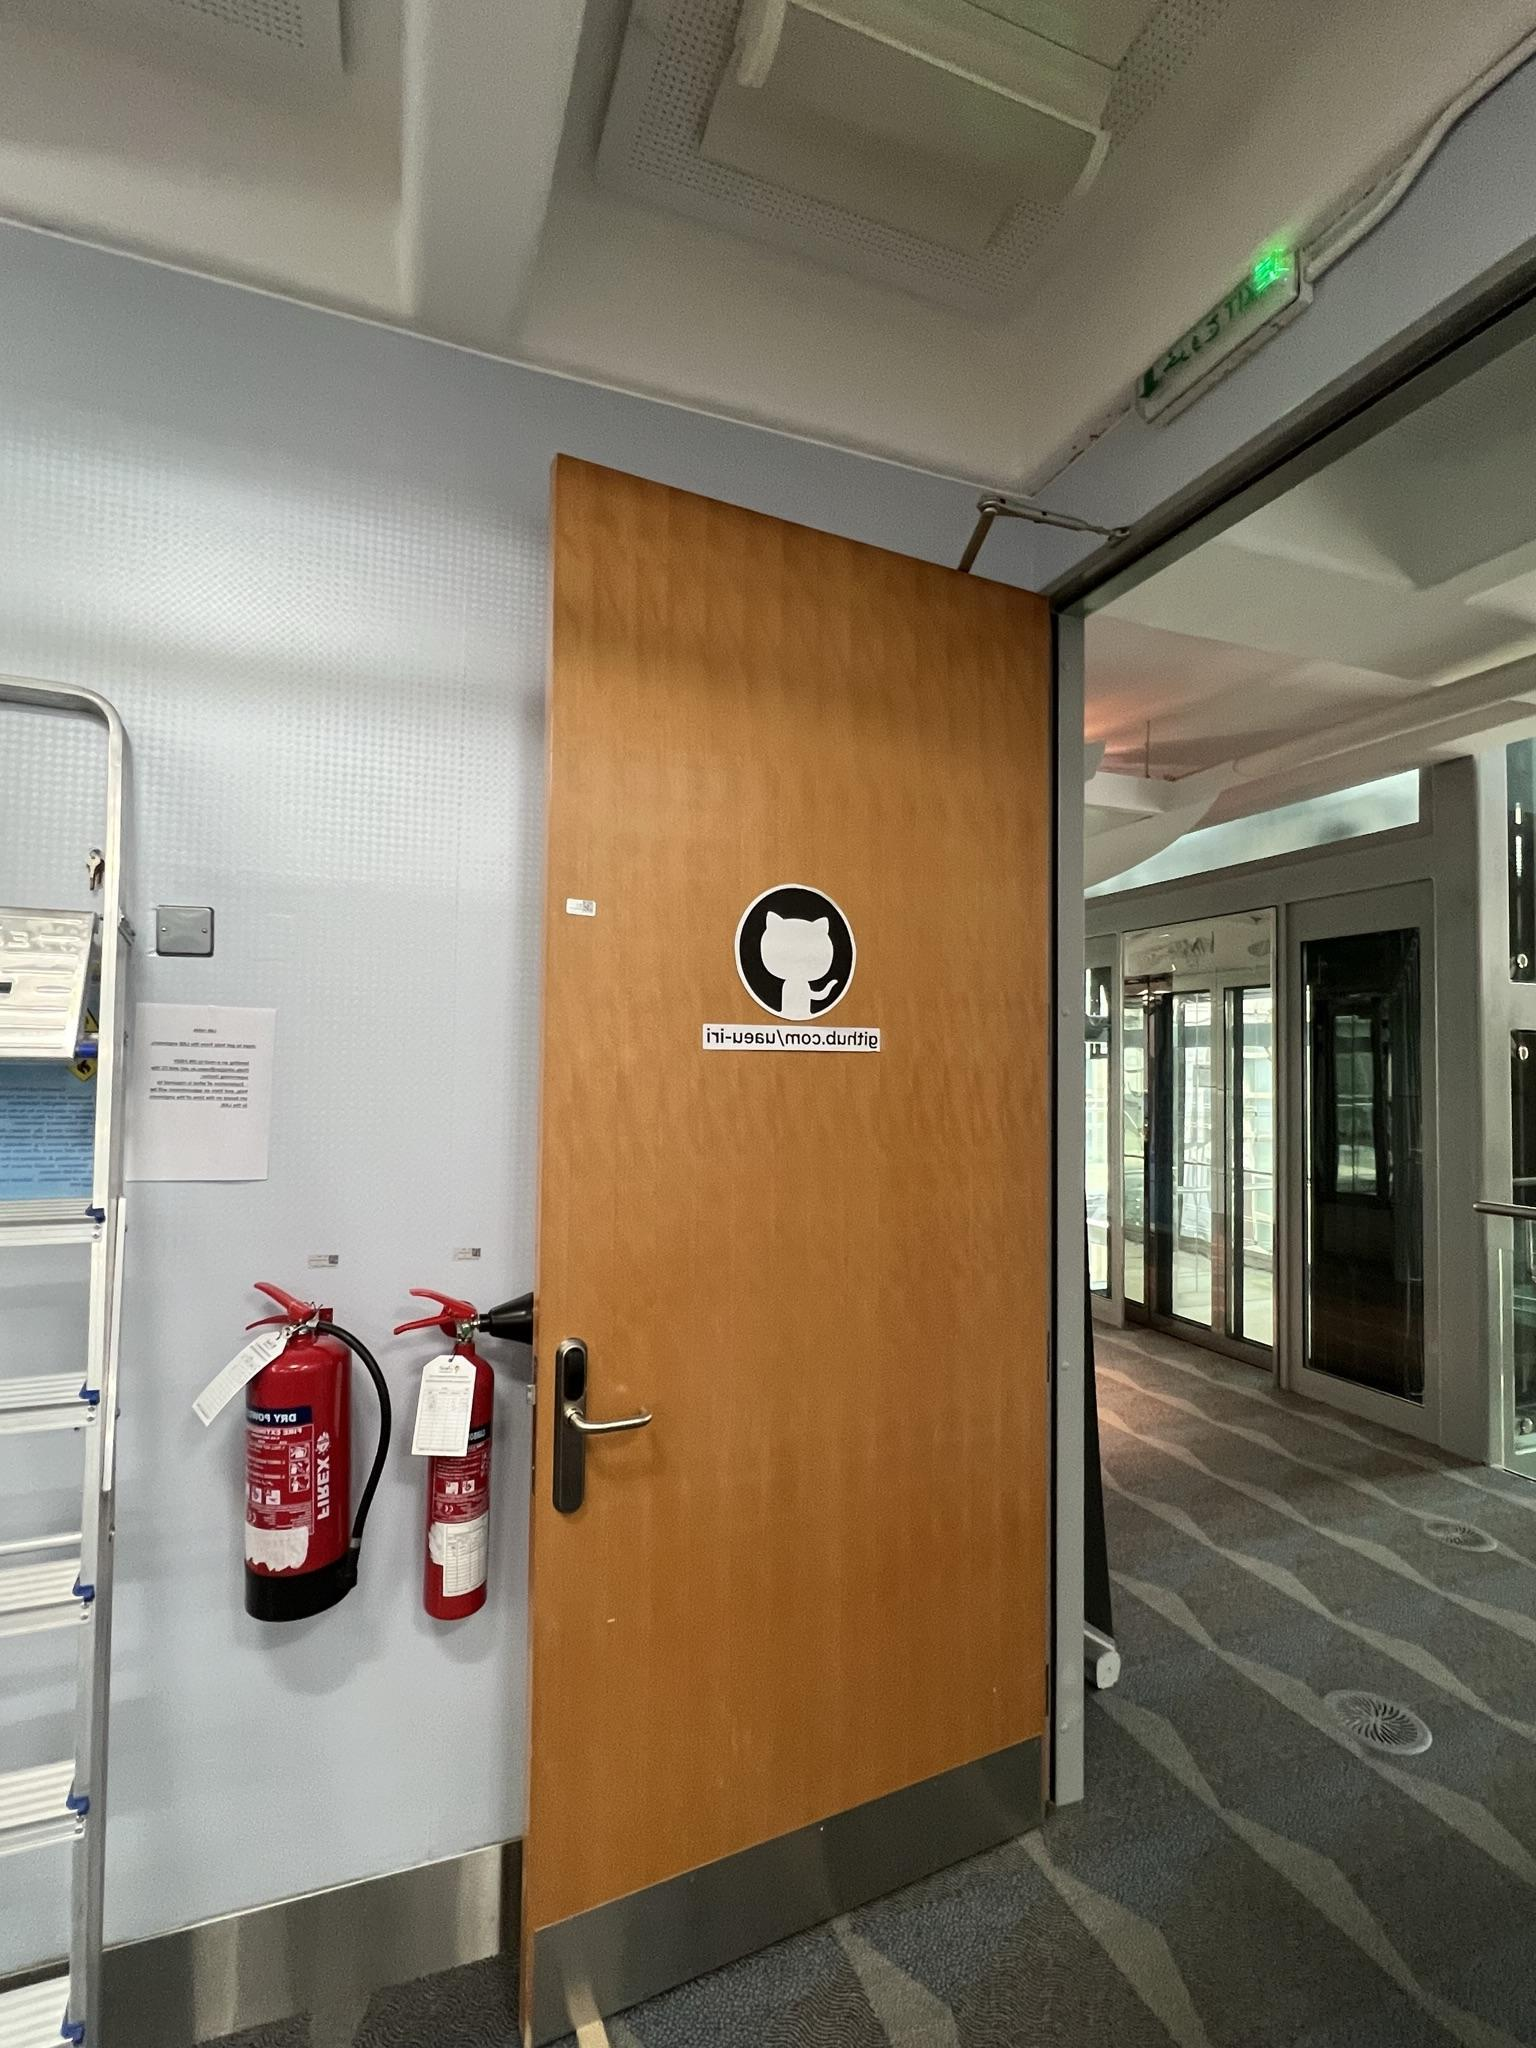door: (499, 502, 1054, 2011)
handle: (544, 1321, 639, 1509)
